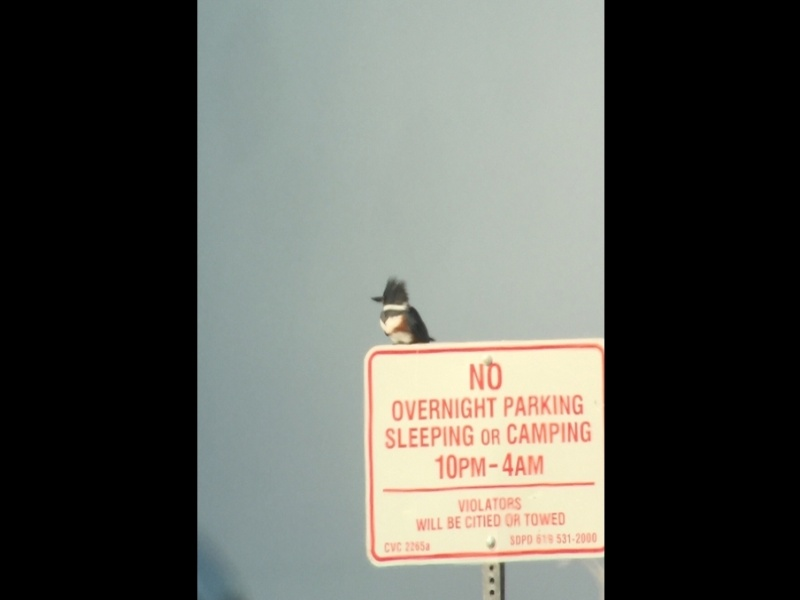kingfisher: (371, 275, 437, 344)
